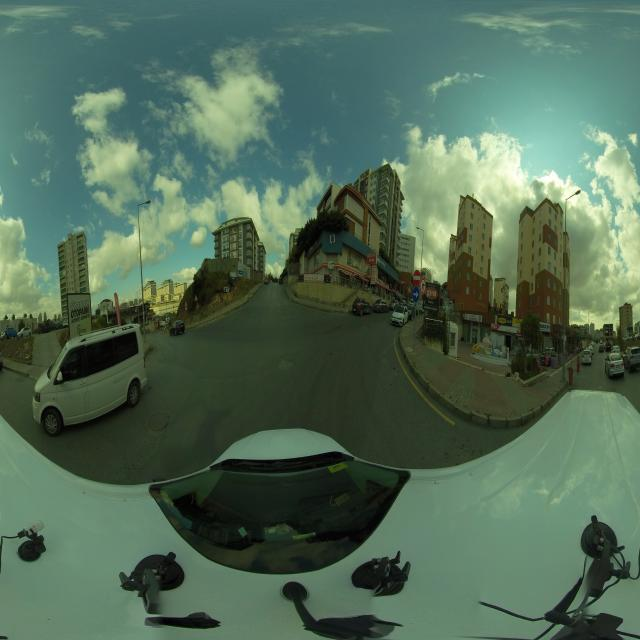SignStore: (491, 324, 520, 334), (497, 315, 521, 327), (377, 256, 391, 274), (376, 277, 389, 289), (465, 313, 482, 322), (541, 322, 550, 332), (396, 290, 400, 294)
